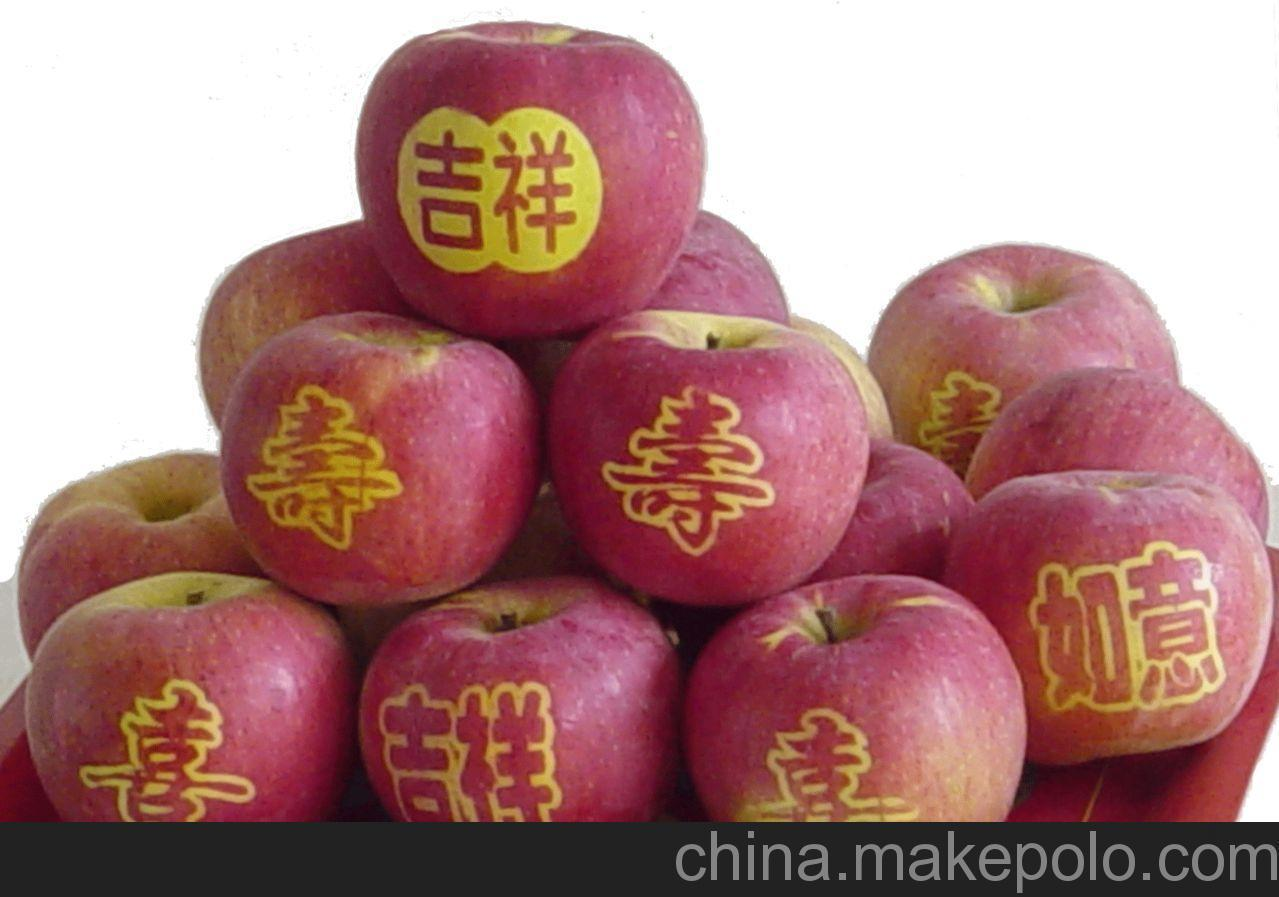apple: (352, 16, 711, 340), (541, 312, 872, 610), (943, 471, 1273, 763), (220, 319, 537, 605), (24, 572, 367, 821), (677, 578, 1031, 819), (355, 572, 686, 821), (868, 245, 1178, 485), (17, 448, 258, 652), (974, 369, 1271, 527), (200, 218, 385, 428), (626, 209, 793, 334)
